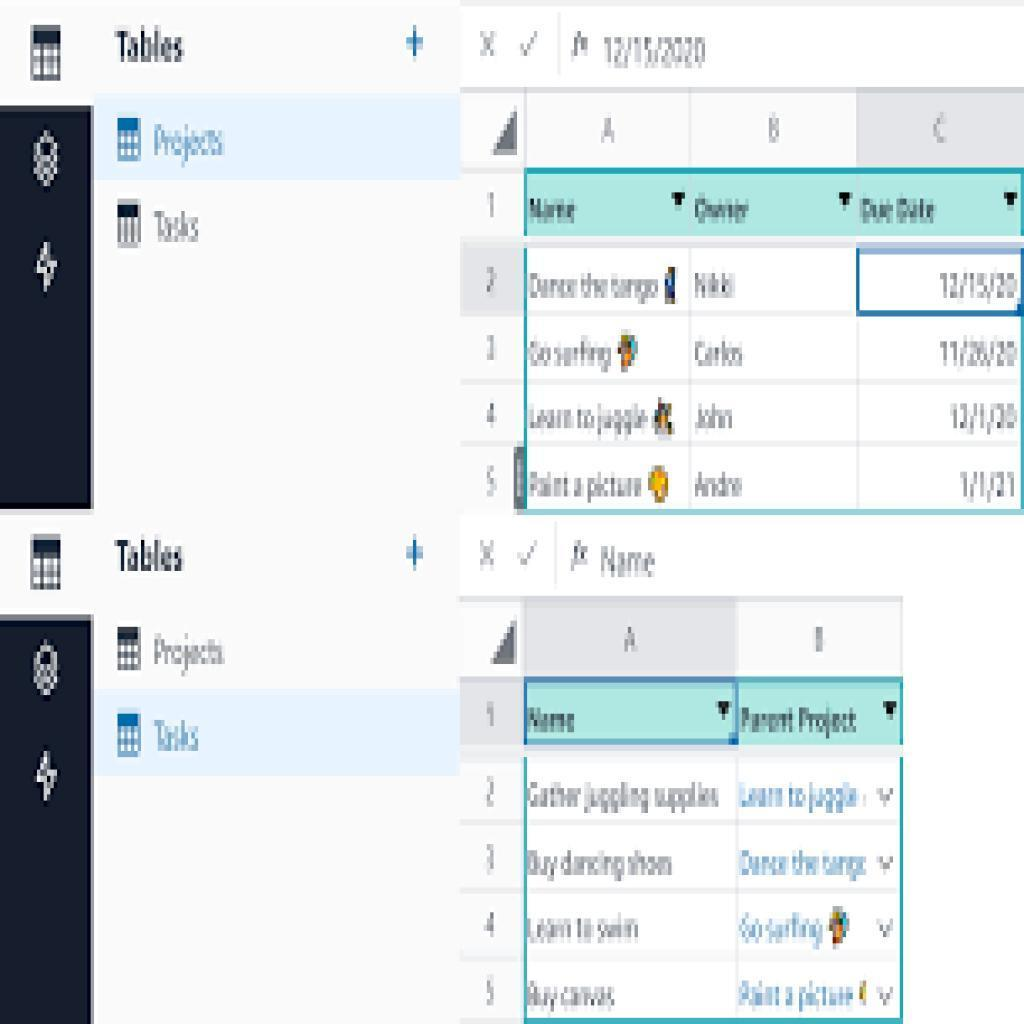icon: (14, 12, 80, 99), (23, 124, 69, 204), (25, 532, 72, 601), (28, 235, 69, 298), (109, 196, 151, 255), (31, 747, 67, 811), (112, 113, 150, 171), (30, 639, 65, 701), (114, 625, 150, 676), (114, 711, 148, 765), (402, 537, 436, 577), (513, 536, 542, 573), (475, 537, 499, 572), (516, 30, 542, 62), (405, 25, 426, 61), (477, 29, 499, 61)
label: (107, 24, 194, 71), (152, 117, 229, 169), (116, 532, 193, 582), (155, 633, 233, 676), (152, 204, 204, 247), (154, 717, 202, 761)
table: (461, 88, 1024, 514), (458, 598, 905, 1024)
